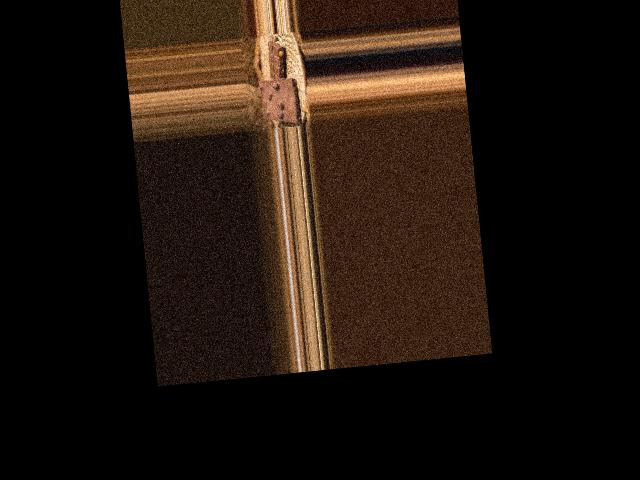chocolate: (257, 74, 301, 127)
